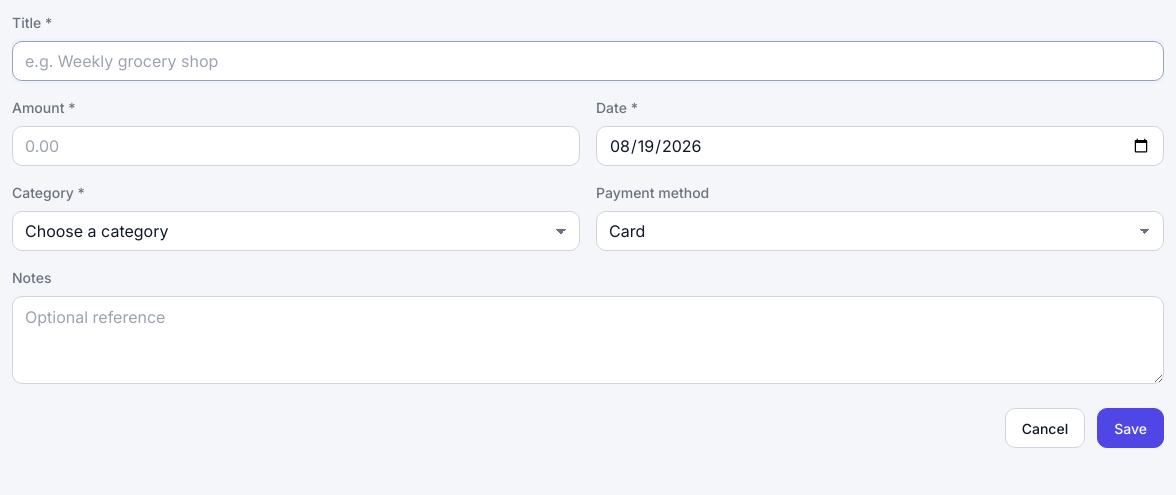
Test: TransactionForm › rejects a non-positive amount
The image size is (1176, 495).
Type "Coffee" into the field labelled "Title *" at (588, 61), box [12,41,1164,81]
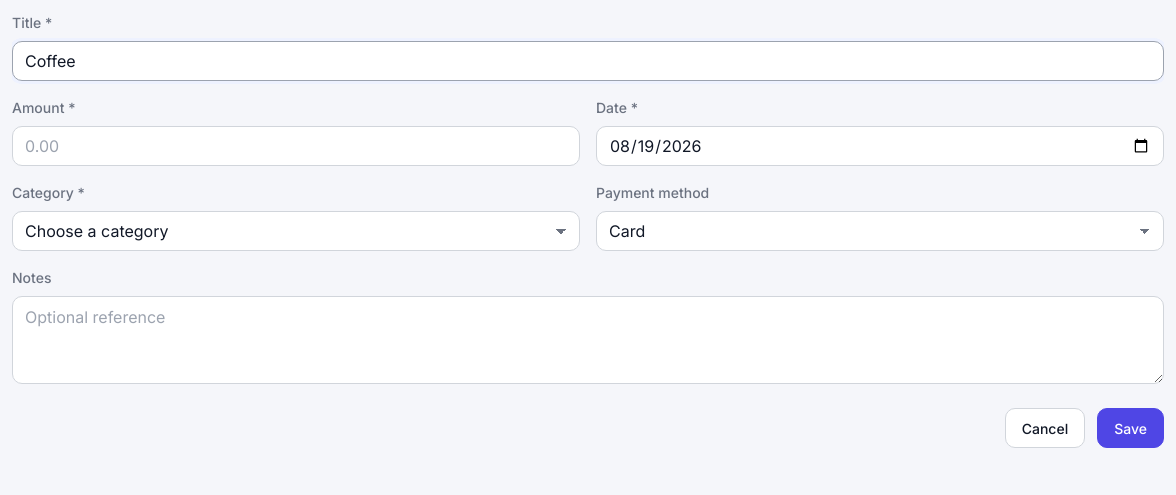
Type "0" into the field labelled "Amount *" at (296, 146), box [12,126,580,166]
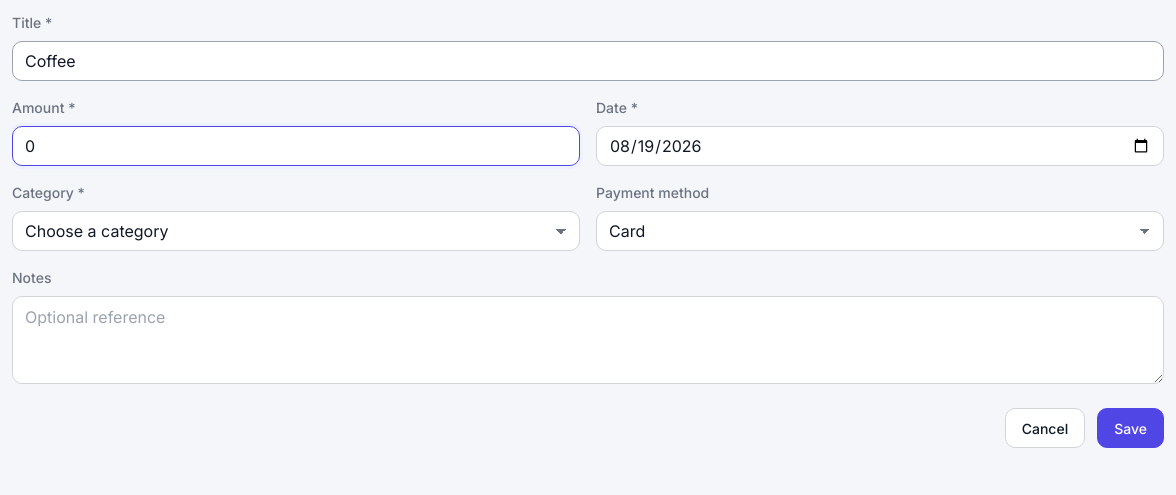
Select "Groceries" in the dropdown labelled "Category *" at (296, 231), box [12,211,580,251]
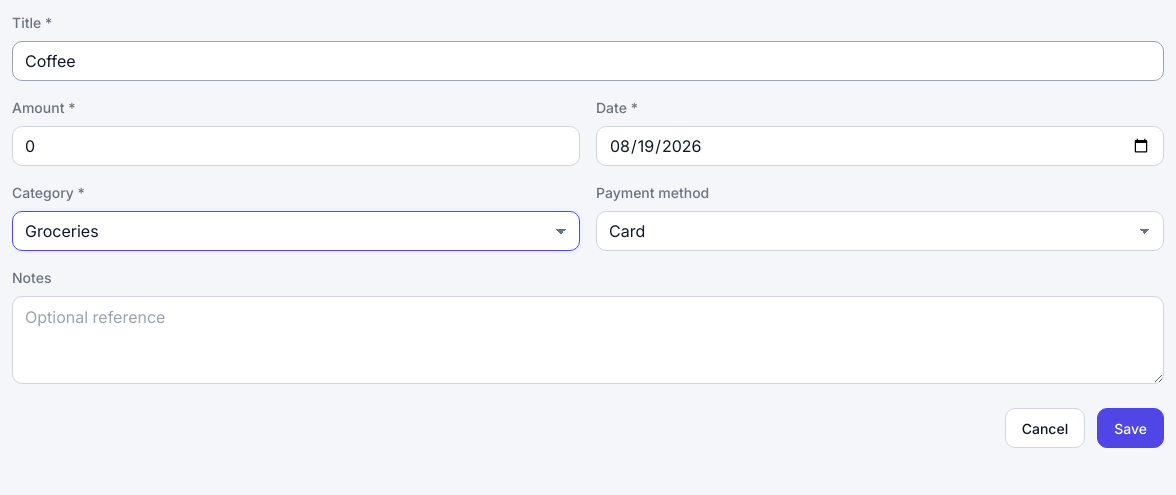
Click the button "Save" at (1131, 428), box [1097,408,1164,448]
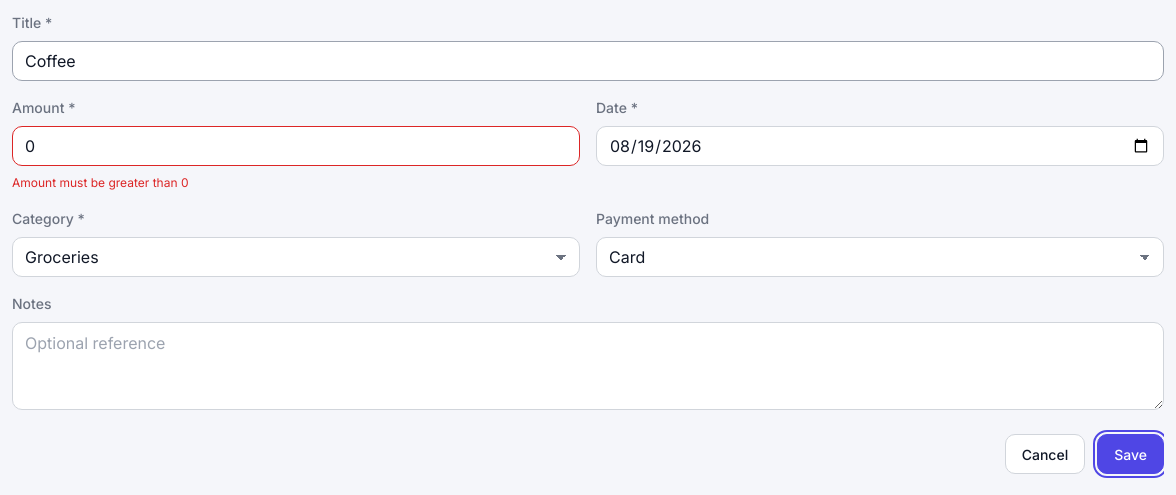
Expected: the text "Amount must be greater than 0" is shown, [12,175,188,190]
